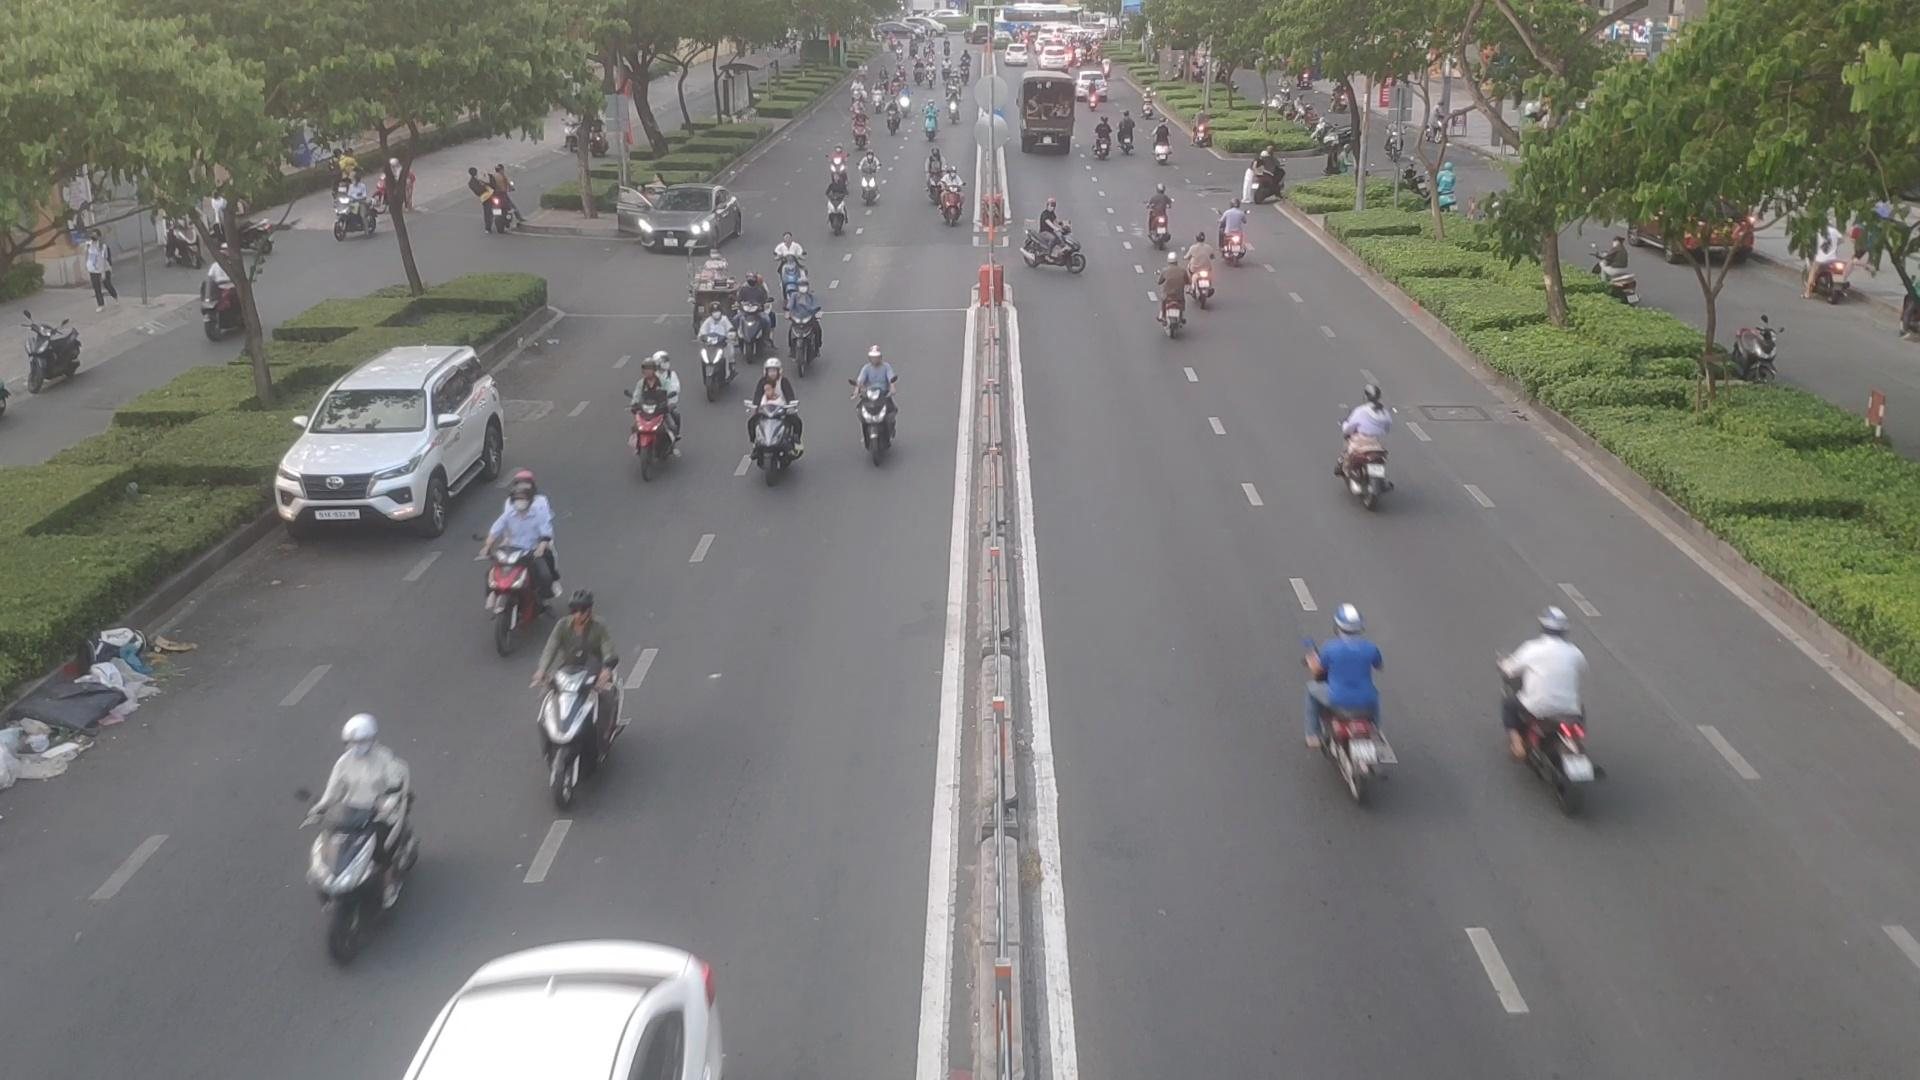car: (272, 345, 510, 535), (620, 189, 745, 257)
motorbike: (303, 704, 404, 951), (535, 579, 632, 807), (1505, 583, 1600, 814), (1309, 593, 1399, 793), (487, 460, 554, 641), (1340, 377, 1400, 513), (742, 357, 804, 481), (626, 345, 683, 473), (1015, 189, 1087, 284), (847, 347, 901, 469), (687, 305, 733, 396), (731, 262, 769, 363), (1156, 253, 1196, 340), (786, 284, 823, 373), (770, 223, 810, 299), (1182, 231, 1224, 301), (1221, 200, 1253, 269), (1146, 185, 1174, 247), (1089, 111, 1116, 174), (942, 167, 964, 225), (856, 149, 881, 200), (823, 179, 844, 237), (1156, 129, 1174, 169)
